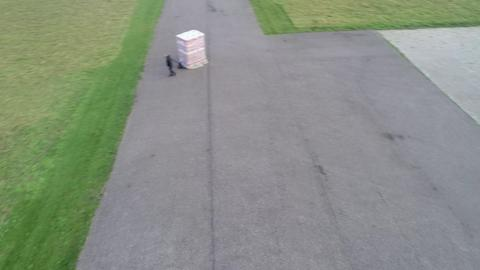RockwoolPallet: (176, 30, 208, 66)
